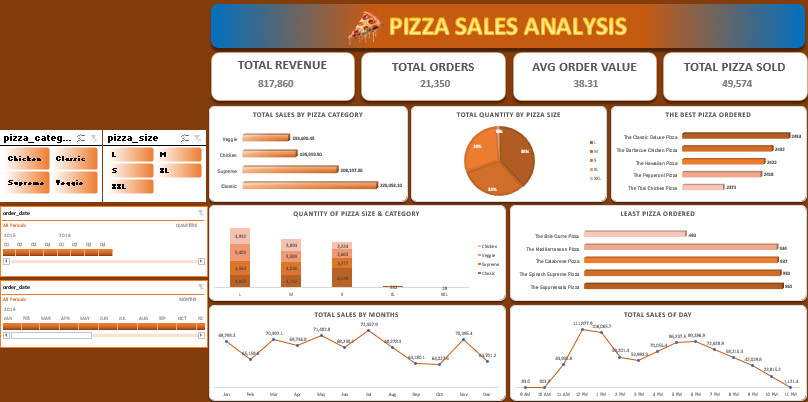

What the dashboard file says about the page in this screenshot:
{"tool":"powerbi","page":{"name":"Dashboard","canvas":[1510,844],"ordinal":1},"visuals":[{"type":"shape","box":[199.2,0,1311.6,838.9],"z":0,"group":"g5"},{"type":"group","id":"g1","title":"Group 2","box":[0.1,167.5,183.5,279.2],"z":1000},{"type":"slicer","fields":{"Values":["Data Model - Pizza Sales.pizza_category"]},"box":[4.9,167.5,178.6,84.1],"z":1000,"group":"g2"},{"type":"lineChart","title":"Total Price by Month","fields":{"Category":["Data Model - Pizza Sales.order_date.Variation.Date Hierarchy.Month"],"Y":["Sum(Data Model - Pizza Sales.total_price)"]},"box":[214.1,550.2,636.4,258.3],"z":1000,"group":"g5"},{"type":"slicer","fields":{"Values":["Data Model - Pizza Sales.pizza_size"]},"box":[0.1,362.6,178.6,84.1],"z":2000,"group":"g2"},{"type":"funnel","title":"The Best Pizza Ordered","fields":{"Category":["Data Model - Pizza Sales.pizza_name"],"Y":["Sum(Data Model - Pizza Sales.total_price)"]},"box":[858.9,546.8,636.4,258.3],"z":2000,"group":"g5"},{"type":"textbox","box":[315.7,21.9,1129.3,94.5],"z":3000,"group":"g5"},{"type":"pieChart","title":"Total Quantity by Pizza Size","fields":{"Y":["Sum(Data Model - Pizza Sales.quantity)"],"Category":["Data Model - Pizza Sales.pizza_size"]},"box":[641.5,251.9,425.4,287],"z":3000,"group":"g3"},{"type":"slicer","title":"Order Date","fields":{"Values":["Data Model - Pizza Sales.Months"]},"box":[3.1,259.1,178.6,84.1],"z":3000,"group":"g2"},{"type":"group","id":"g2","title":"Group 1","box":[0.1,167.5,183.5,279.2],"z":3001,"group":"g1"},{"type":"group","id":"g3","title":"Group 5","box":[212.7,251.9,1282.9,287],"z":4000,"group":"g5"},{"type":"columnChart","title":"Total Sales by Pizza Category","fields":{"Category":["Data Model - Pizza Sales.pizza_category"],"Y":["Sum(Data Model - Pizza Sales.total_price)"]},"box":[212.7,251.9,425.4,287],"z":4000,"group":"g3"},{"type":"group","id":"g4","title":"Group 4","box":[215.8,121.5,1277.8,128.3],"z":5000,"group":"g5"},{"type":"columnChart","title":"Total Quantity by Pizza Size & Categogry","fields":{"Series":["Data Model - Pizza Sales.pizza_category"],"Y":["Sum(Data Model - Pizza Sales.quantity)"],"Category":["Data Model - Pizza Sales.pizza_size"]},"box":[1070.2,251.9,425.4,287],"z":5000,"group":"g3"},{"type":"actionButton","box":[6.1,574.1,93.1,100.8],"z":6000},{"type":"image","box":[18.3,4.6,149.6,126.7],"z":7000},{"type":"actionButton","box":[103,584,99.6,86.1],"z":8000},{"type":"cardVisual","fields":{"Data":["Data Model - Pizza Sales.Total Revenue"]},"box":[215.8,121.5,319.5,128.3],"z":9000,"group":"g4"},{"type":"cardVisual","fields":{"Data":["Data Model - Pizza Sales.Total Orders"]},"box":[535.3,121.5,319.5,128.3],"z":10000,"group":"g4"},{"type":"cardVisual","fields":{"Data":["Data Model - Pizza Sales.Total Pizza Sold"]},"box":[854.7,121.5,319.5,128.3],"z":11000,"group":"g4"},{"type":"cardVisual","fields":{"Data":["Data Model - Pizza Sales.AVG Order Value"]},"box":[1174.2,121.5,319.5,128.3],"z":12000,"group":"g4"},{"type":"group","id":"g5","title":"Group 3","box":[199.2,0,1311.6,838.9],"z":14001}]}

Visuals, with their boxes on the page's 1510x844 design canvas (x1, y1, x2, y2). These are canvas units, not pixel positions in the 808x402 screenshot, which may show the page scaled, cropped or inside an application window:
shape: (199,0,1511,839)
"Group 2" group: (0,168,184,447)
slicer - Data Model - Pizza Sales.pizza_category: (5,168,184,252)
"Total Price by Month" lineChart: (214,550,850,808)
slicer - Data Model - Pizza Sales.pizza_size: (0,363,179,447)
"The Best Pizza Ordered" funnel: (859,547,1495,805)
textbox: (316,22,1445,116)
"Total Quantity by Pizza Size" pieChart: (642,252,1067,539)
"Order Date" slicer: (3,259,182,343)
"Group 1" group: (0,168,184,447)
"Group 5" group: (213,252,1496,539)
"Total Sales by Pizza Category" columnChart: (213,252,638,539)
"Group 4" group: (216,122,1494,250)
"Total Quantity by Pizza Size & Categogry" columnChart: (1070,252,1496,539)
actionButton: (6,574,99,675)
image: (18,5,168,131)
actionButton: (103,584,203,670)
cardVisual - Data Model - Pizza Sales.Total Revenue: (216,122,535,250)
cardVisual - Data Model - Pizza Sales.Total Orders: (535,122,855,250)
cardVisual - Data Model - Pizza Sales.Total Pizza Sold: (855,122,1174,250)
cardVisual - Data Model - Pizza Sales.AVG Order Value: (1174,122,1494,250)
"Group 3" group: (199,0,1511,839)
